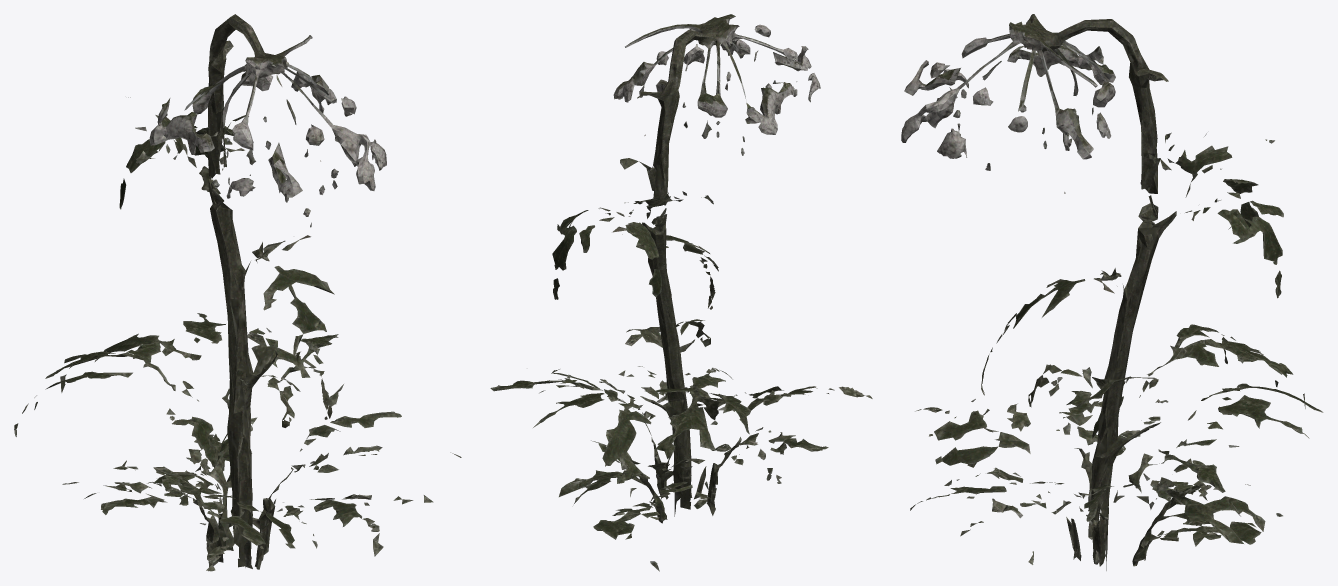
File: m13-hemlock-pixelated.glb
3 renders of one model, left to right at view 1: azimuth 30°, elevation 25°; view 2: azimuth 150°, elevation 25°; view 3: azimuth 270°, elevation 25°, orthographic. The views are drawn at different scales.
Parts seen in each view (by area): view 1: m13-hemlock.glb; view 2: m13-hemlock.glb; view 3: m13-hemlock.glb.
Part boxes in pixels (left/top/right/bottom): m13-hemlock.glb: left=14, top=14, right=461, bottom=571; m13-hemlock.glb: left=490, top=14, right=872, bottom=571; m13-hemlock.glb: left=901, top=14, right=1323, bottom=570.
Size of the model in its own units: 1.24 by 1.88 by 1.31.
1 material, 1 textured.
